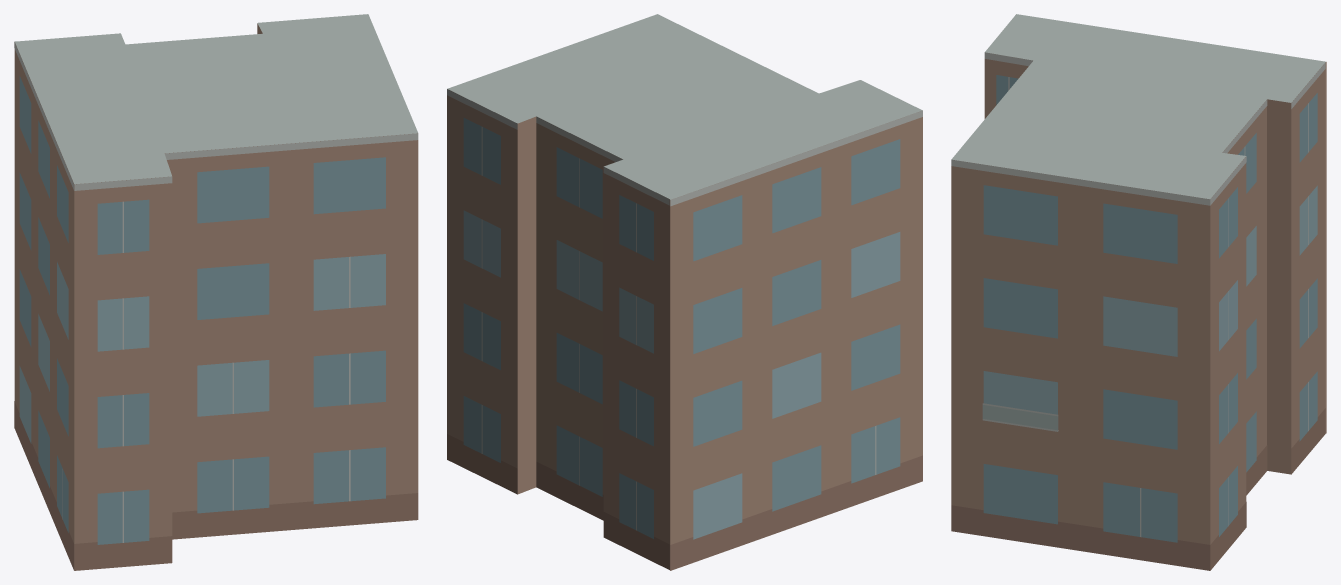
The model's file is survey-upis-32905659.glb.
The picture shows the model from 3 angles, left to right: view 1: azimuth 30°, elevation 25°; view 2: azimuth 150°, elevation 25°; view 3: azimuth 270°, elevation 25°; orthographic projection. The views are drawn at different scales.
Parts seen in each view (by area): view 1: survey-upis-32905659.tmp; view 2: survey-upis-32905659.tmp; view 3: survey-upis-32905659.tmp.
Part boxes in pixels (x1,y1,x2,y2): survey-upis-32905659.tmp: (14, 14, 418, 570); survey-upis-32905659.tmp: (447, 14, 922, 570); survey-upis-32905659.tmp: (951, 14, 1326, 570).
Size of the model in its own units: 14.98 by 14 by 12.83.
